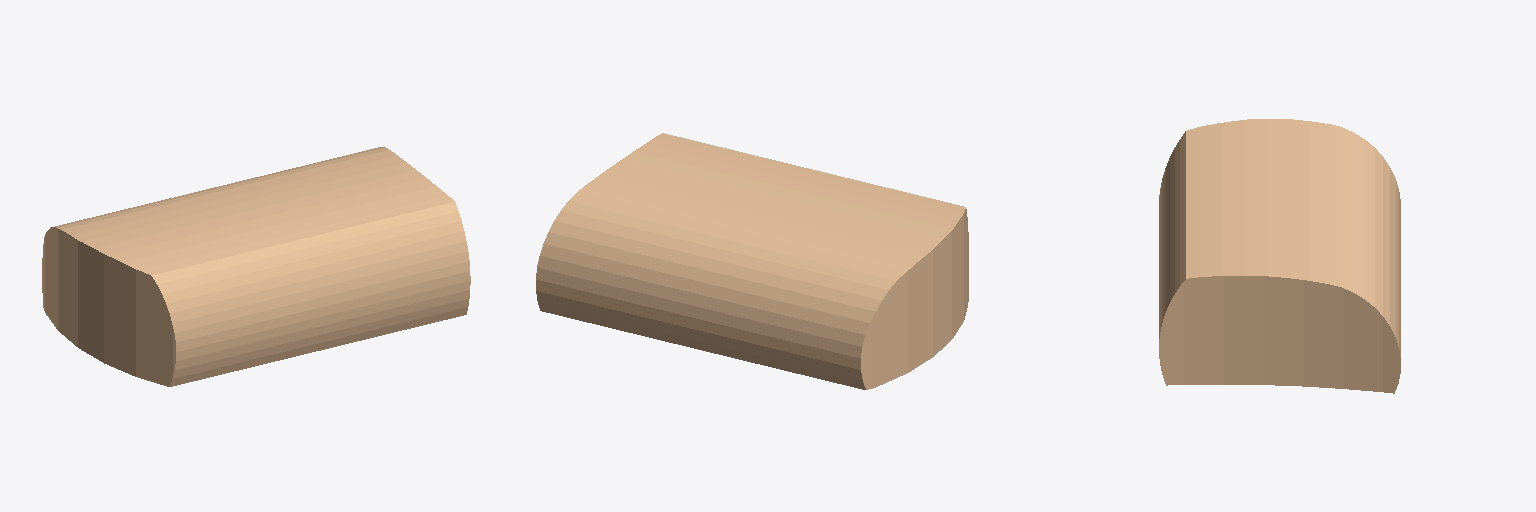
Rendered from basic.obj.
3 renders of one model, left to right at view 1: azimuth 30°, elevation 25°; view 2: azimuth 150°, elevation 25°; view 3: azimuth 270°, elevation 25°, orthographic.
Parts seen in each view (by area): view 1: Mesh1 Model; view 2: Mesh1 Model; view 3: Mesh1 Model.
Boxes of the visible parts, x1=… form: Mesh1 Model: x1=42, y1=147, x2=470, y2=386; Mesh1 Model: x1=536, y1=133, x2=968, y2=389; Mesh1 Model: x1=1159, y1=119, x2=1400, y2=393.
Bounding box in the file's own units: 46.15 × 14.03 × 28.17.